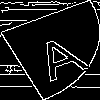A: (24, 25, 93, 82)
